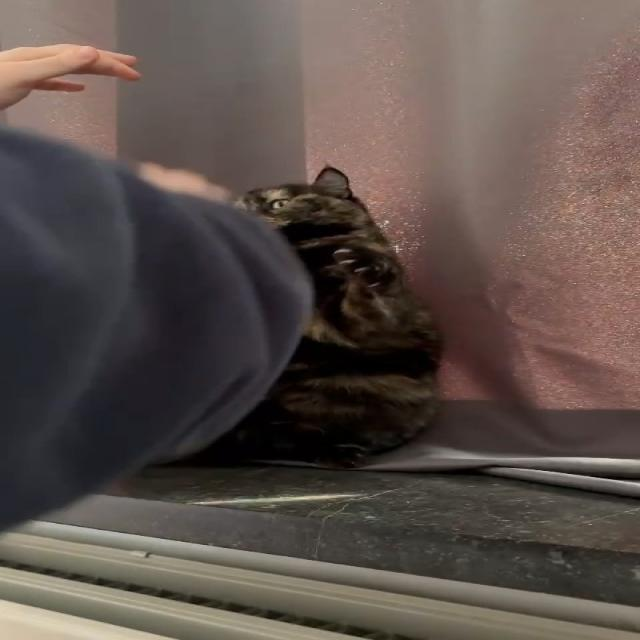authorized: (220, 164, 444, 468)
